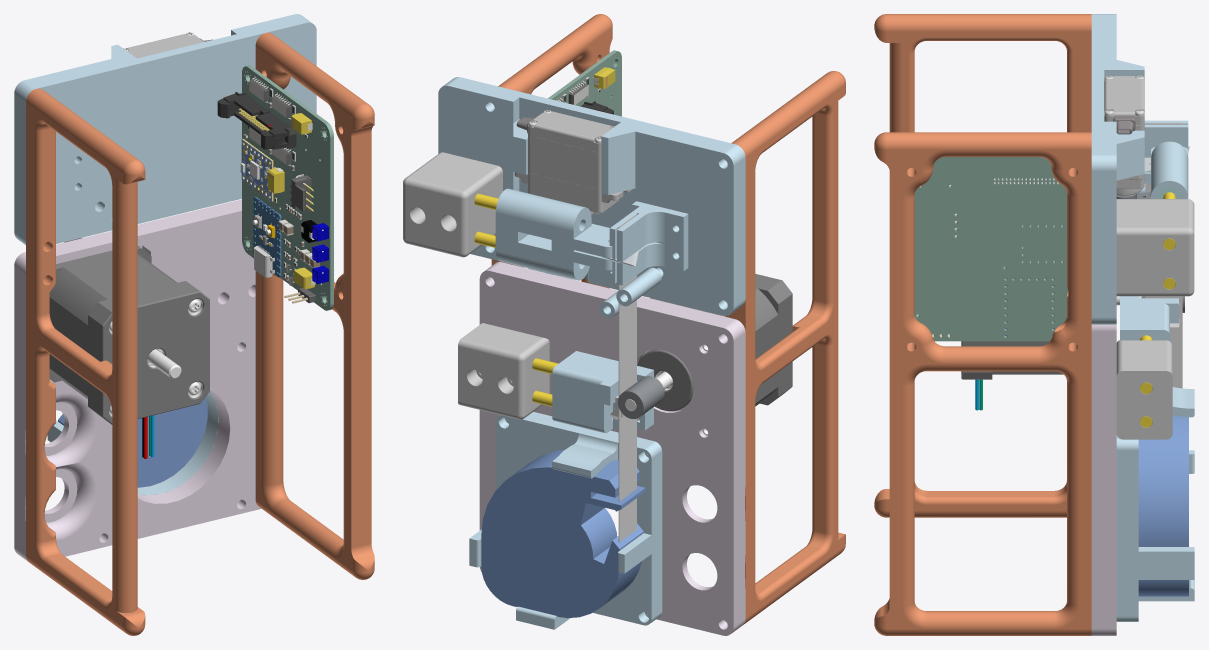
The model's file is assy.glb.
3 renders of one model, left to right at view 1: azimuth 30°, elevation 25°; view 2: azimuth 150°, elevation 25°; view 3: azimuth 270°, elevation 25°, orthographic. The views are drawn at different scales.
Parts seen in each view (by area): view 1: lettratagECU_V3 1.42.2; view 2: lettratagECU_V3 1.42.2; view 3: lettratagECU_V3 1.42.2.
Boxes of the visible parts, left/top/right/bottom form: lettratagECU_V3 1.42.2: left=14, top=14, right=374, bottom=635; lettratagECU_V3 1.42.2: left=403, top=14, right=845, bottom=635; lettratagECU_V3 1.42.2: left=874, top=14, right=1194, bottom=635.
Bounding box in the file's own units: 0.114 × 0.178 × 0.1031.
Materials: 1 (1 with a texture image).
